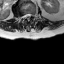CCS_normal: (26, 10, 29, 23)
LFS_normal: (32, 10, 34, 19)
LLS_normal: (29, 10, 32, 20)
RFS_normal: (20, 12, 23, 21)
RLS_normal: (23, 10, 26, 20)
